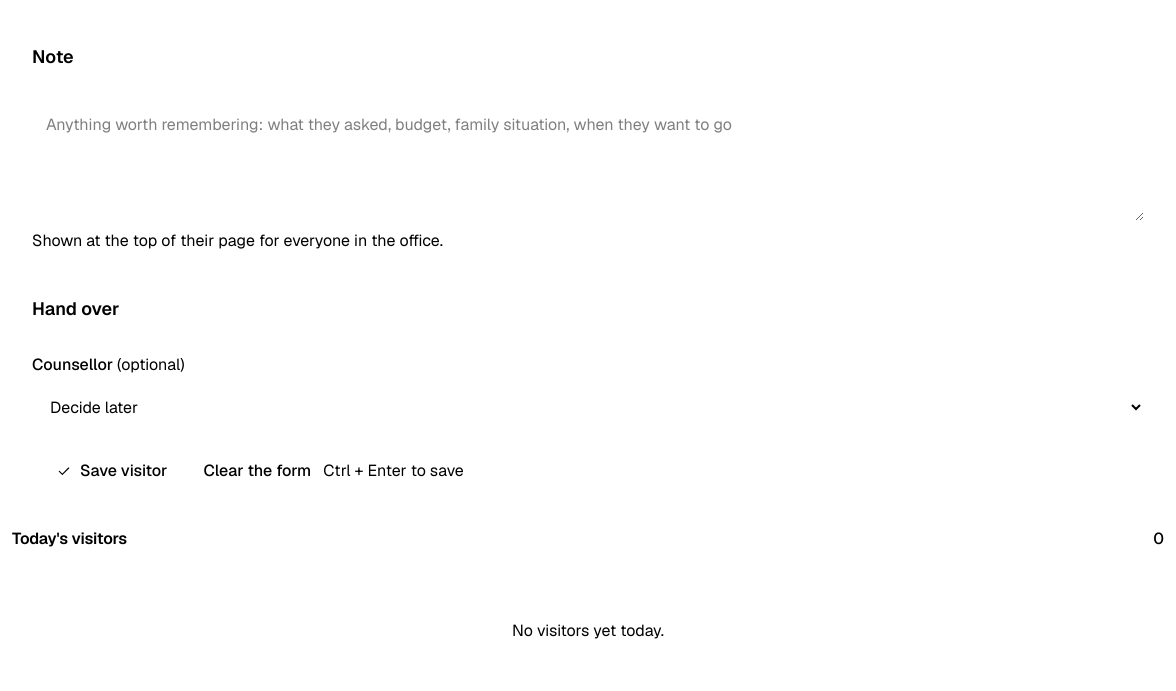
Test case: A new visitor › says when saving failed for another reason
(page scrolled)
What coordinates should you click on to do the following:
click the button "Save visitor"
I would click on:
 (112, 471)
Its box is [32,445,191,497].
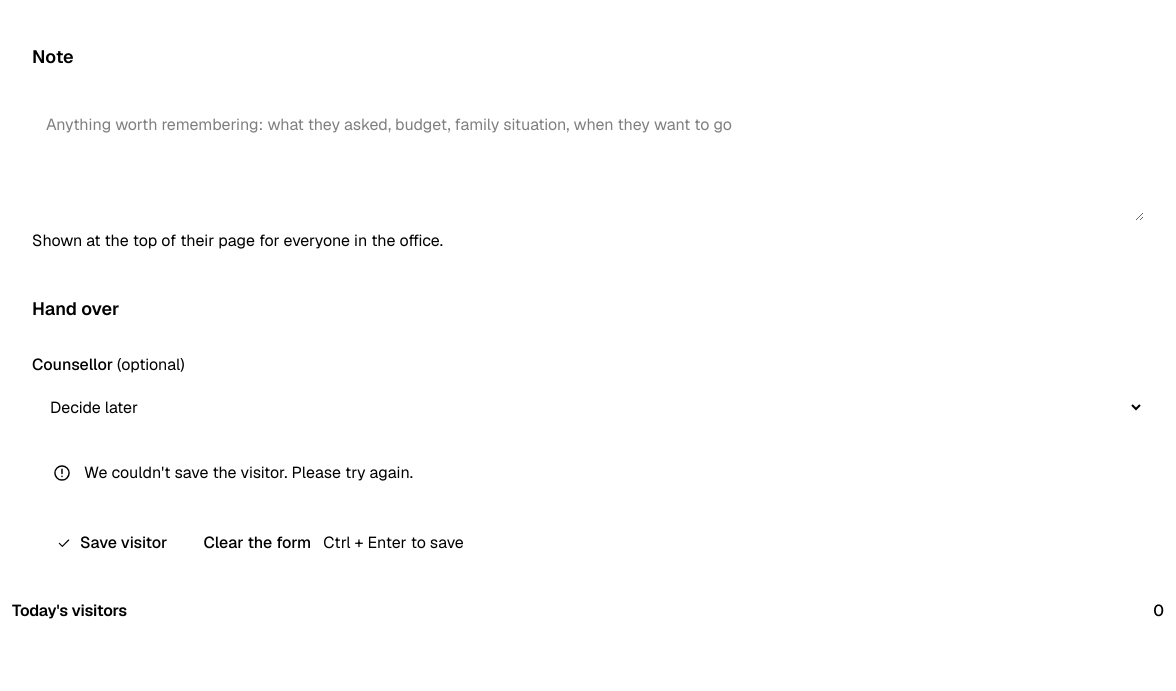
expect the text "We couldn't save the visitor. Please try again." is shown: met, box [84,461,413,485]
